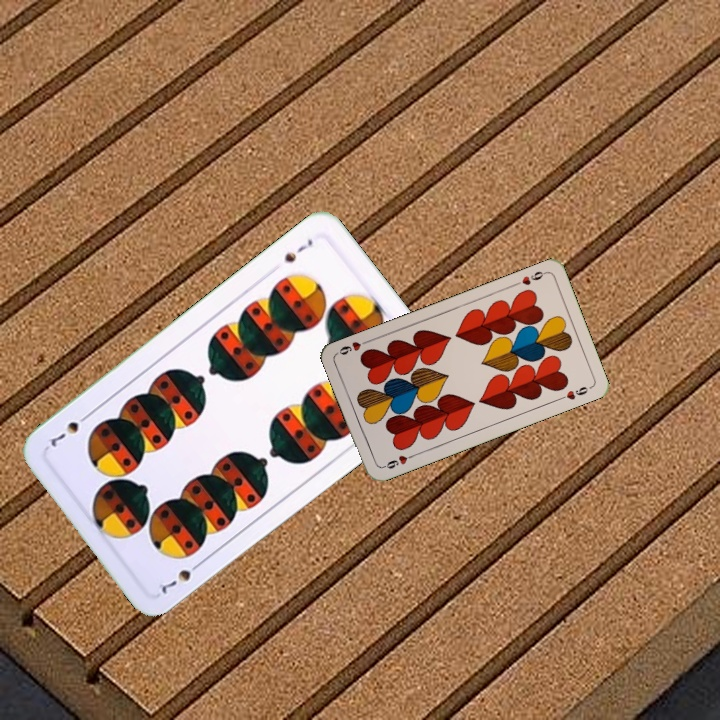H9: (510, 267, 549, 289), (378, 450, 417, 471)
S7: (157, 557, 206, 597), (280, 235, 316, 265)
